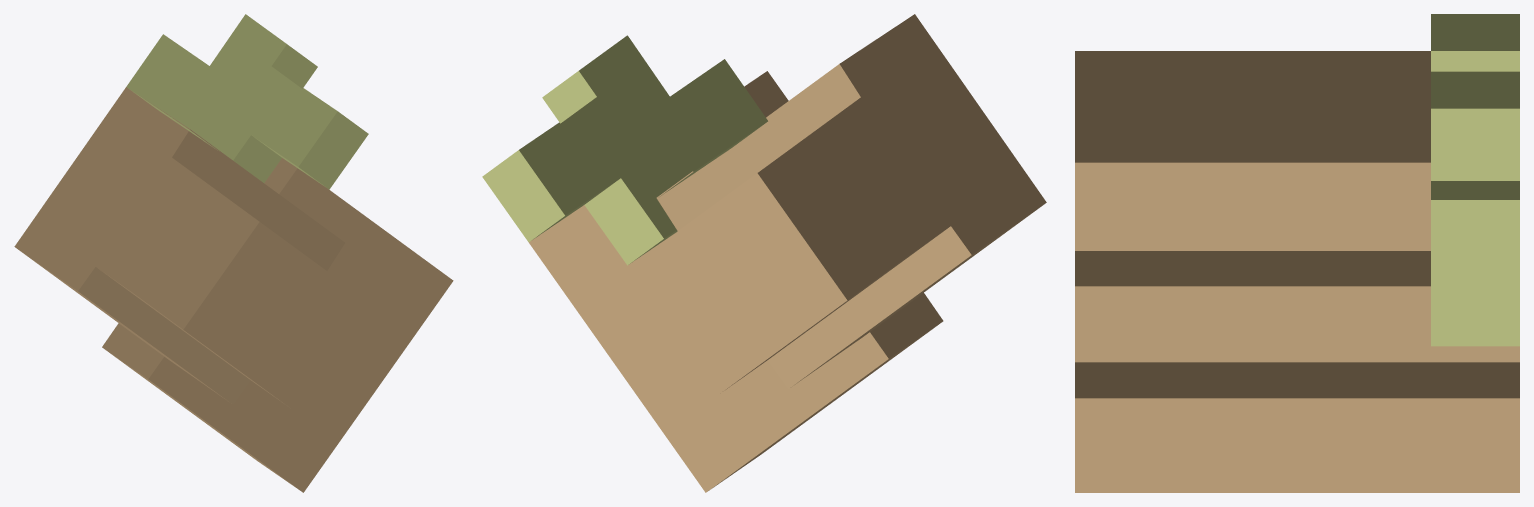
3 views of the same model, side by side, from view 1: azimuth 30°, elevation 25°; view 2: azimuth 150°, elevation 25°; view 3: azimuth 270°, elevation 25° (orthographic). The views are drawn at different scales.
Visible parts, largest first — view 1: 0_0_1_3_1_1_2_2_1; view 2: 0_0_1_3_1_1_2_2_1; view 3: 0_0_1_3_1_1_2_2_1.
Boxes of the visible parts, left/top/right/bottom form: 0_0_1_3_1_1_2_2_1: left=14, top=14, right=453, bottom=492; 0_0_1_3_1_1_2_2_1: left=482, top=14, right=1046, bottom=492; 0_0_1_3_1_1_2_2_1: left=1075, top=14, right=1519, bottom=492.
Bounding box in the file's own units: 36.09 × 36.42 × 30.
